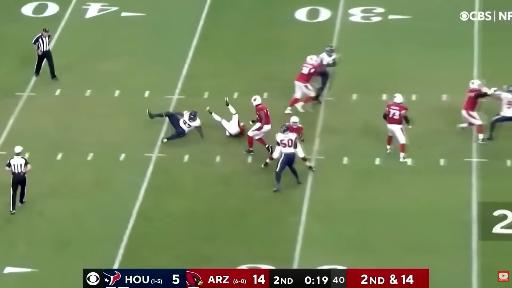Helmet: (251, 95, 262, 106), (469, 79, 482, 88), (306, 56, 319, 64), (325, 45, 334, 56), (189, 110, 197, 122), (290, 116, 299, 126), (394, 94, 403, 103), (280, 124, 289, 133), (506, 85, 511, 93)
Jersey: (295, 63, 322, 83), (386, 103, 407, 125), (463, 88, 483, 111), (276, 132, 297, 153), (180, 112, 201, 132), (256, 104, 270, 125), (500, 93, 511, 116), (319, 53, 337, 65), (287, 124, 303, 136)
Player: (263, 125, 301, 191), (262, 124, 314, 171), (458, 80, 495, 143), (285, 56, 322, 113), (383, 94, 411, 161), (147, 110, 203, 142), (246, 96, 273, 154), (207, 98, 245, 136), (487, 85, 512, 141), (314, 45, 337, 103), (287, 116, 303, 142)
